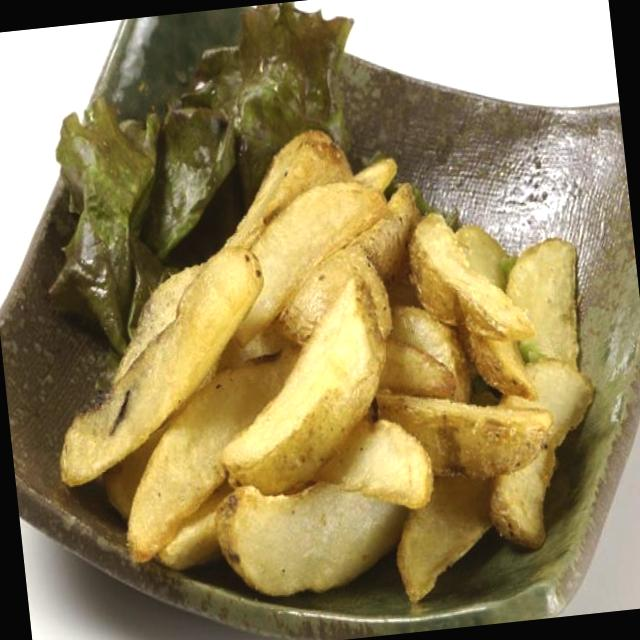French Fries: (114, 141, 584, 592)
